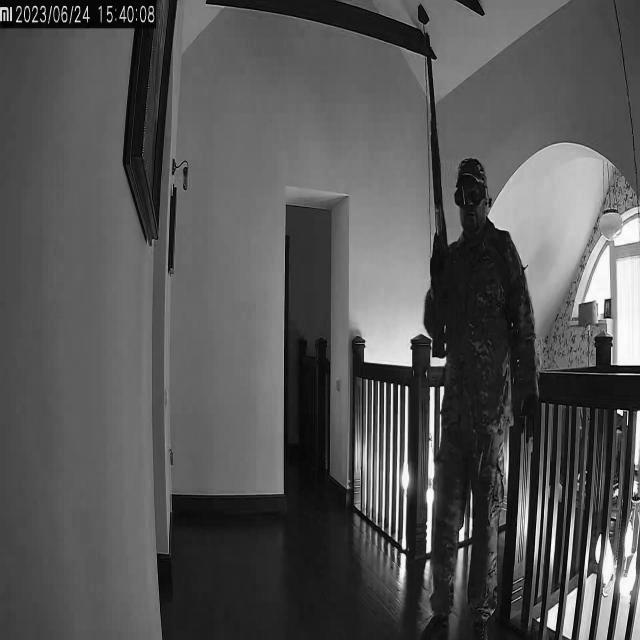gun: (422, 31, 452, 364)
person with a gun: (426, 32, 524, 636)
